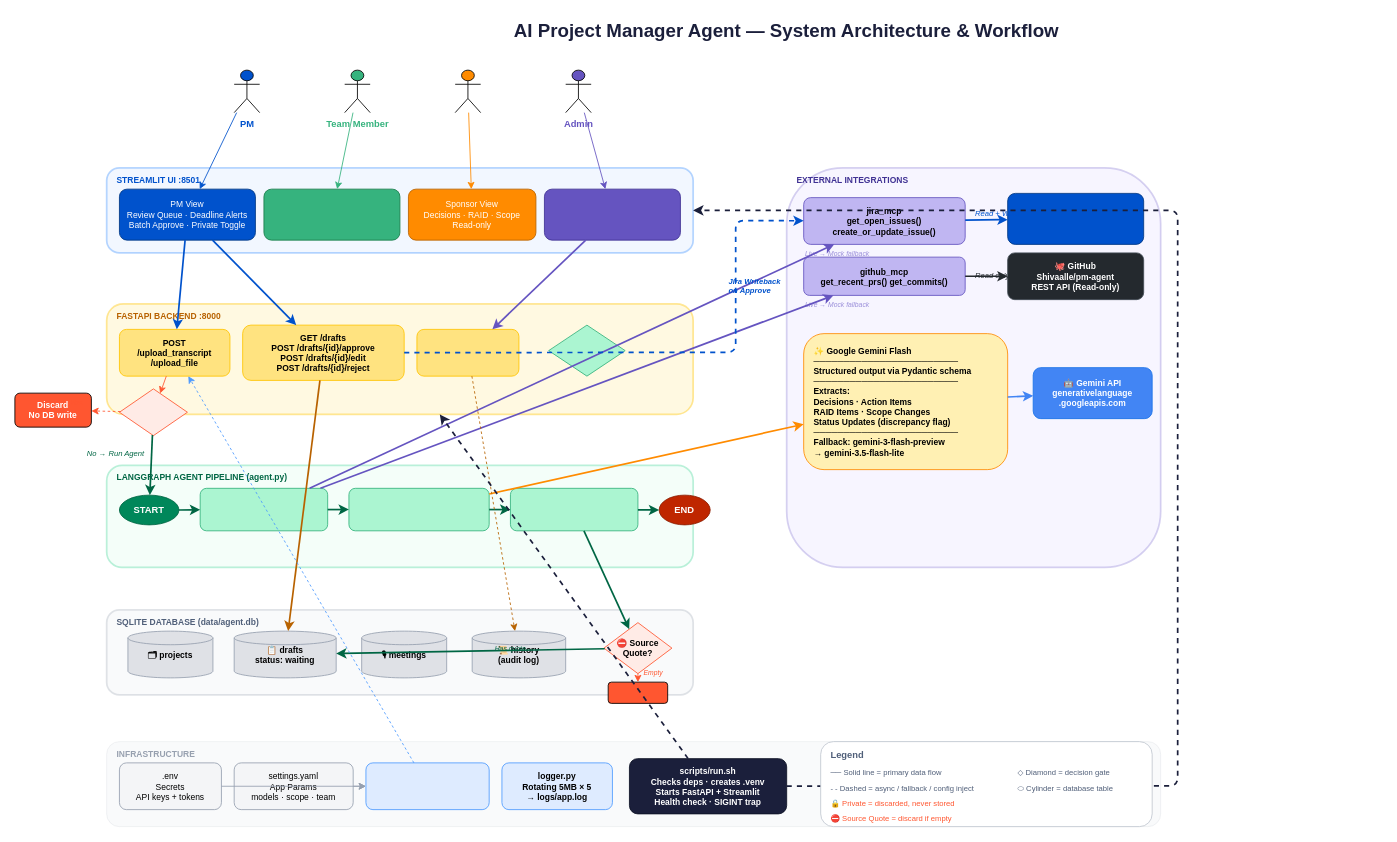
The diagram is 1397 pixels wide and 842 high, and some of its shapes have lost their labels. The shapes that lost their labels are listed below. From the top down, each one's centre as x and y in pixels, then its label:
At (467,91): "Sponsor".
At (331,214): "Team View Filtered by member name Own actions & updates".
At (612,214): "Admin View Integrations · Audit Log".
At (1075,218): "☁️ Jira Cloud shivaalle22.atlassian.net REST API v3".
At (467,352): "GET / GET /project GET /history".
At (586,350): "Idempotency Guard".
At (153,412): "Private? 🔒".
At (263,509): "1. Fetch Context Jira Issues + GitHub PRs".
At (418,509): "2. Draft & Cross-Reference Gemini LLM Extraction".
At (574,509): "3. Save Drafts Source-Quote Filter → DB".
At (637,692): "Discard".
At (427,786): "loader.py Singleton · @lru_cache .env wins on conflict".
